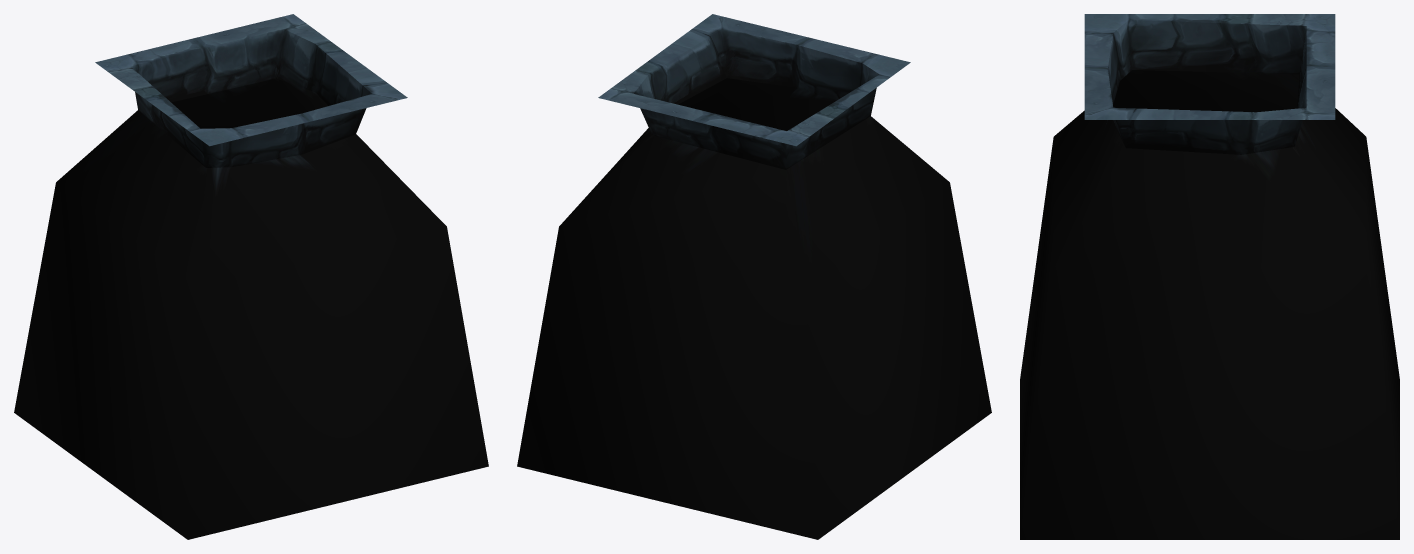
File: floor_pit_01_mobile.fbx
The picture shows the model from 3 angles, left to right: view 1: azimuth 30°, elevation 25°; view 2: azimuth 150°, elevation 25°; view 3: azimuth 270°, elevation 25°; orthographic projection. The views are drawn at different scales.
Visible parts, largest first — view 1: floor_pit_01_mobile; view 2: floor_pit_01_mobile; view 3: floor_pit_01_mobile.
Part boxes in pixels (<box>): floor_pit_01_mobile: <box>14,14,488,539</box>; floor_pit_01_mobile: <box>517,14,991,539</box>; floor_pit_01_mobile: <box>1020,14,1399,539</box>.
Bounding box in the file's own units: 303 × 346 × 303.
